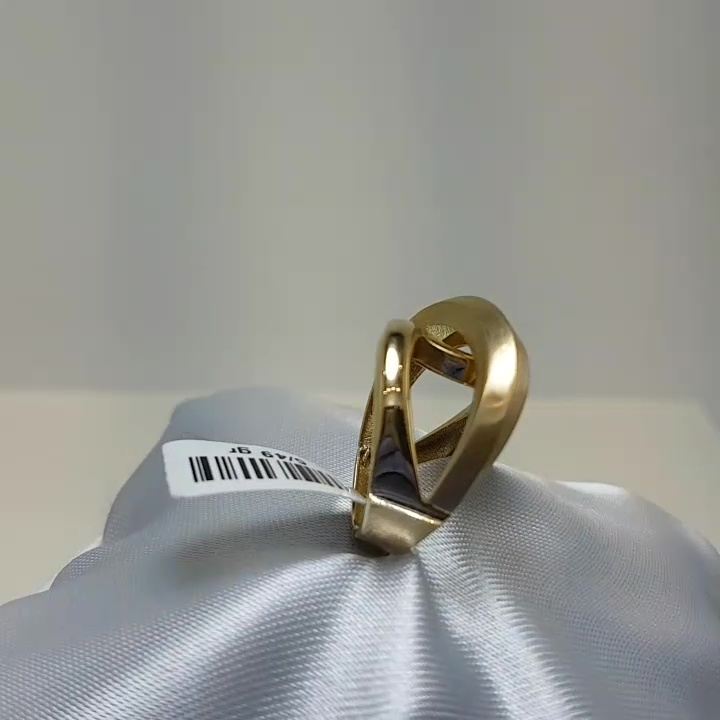Ring 3: (291, 286, 560, 564)
